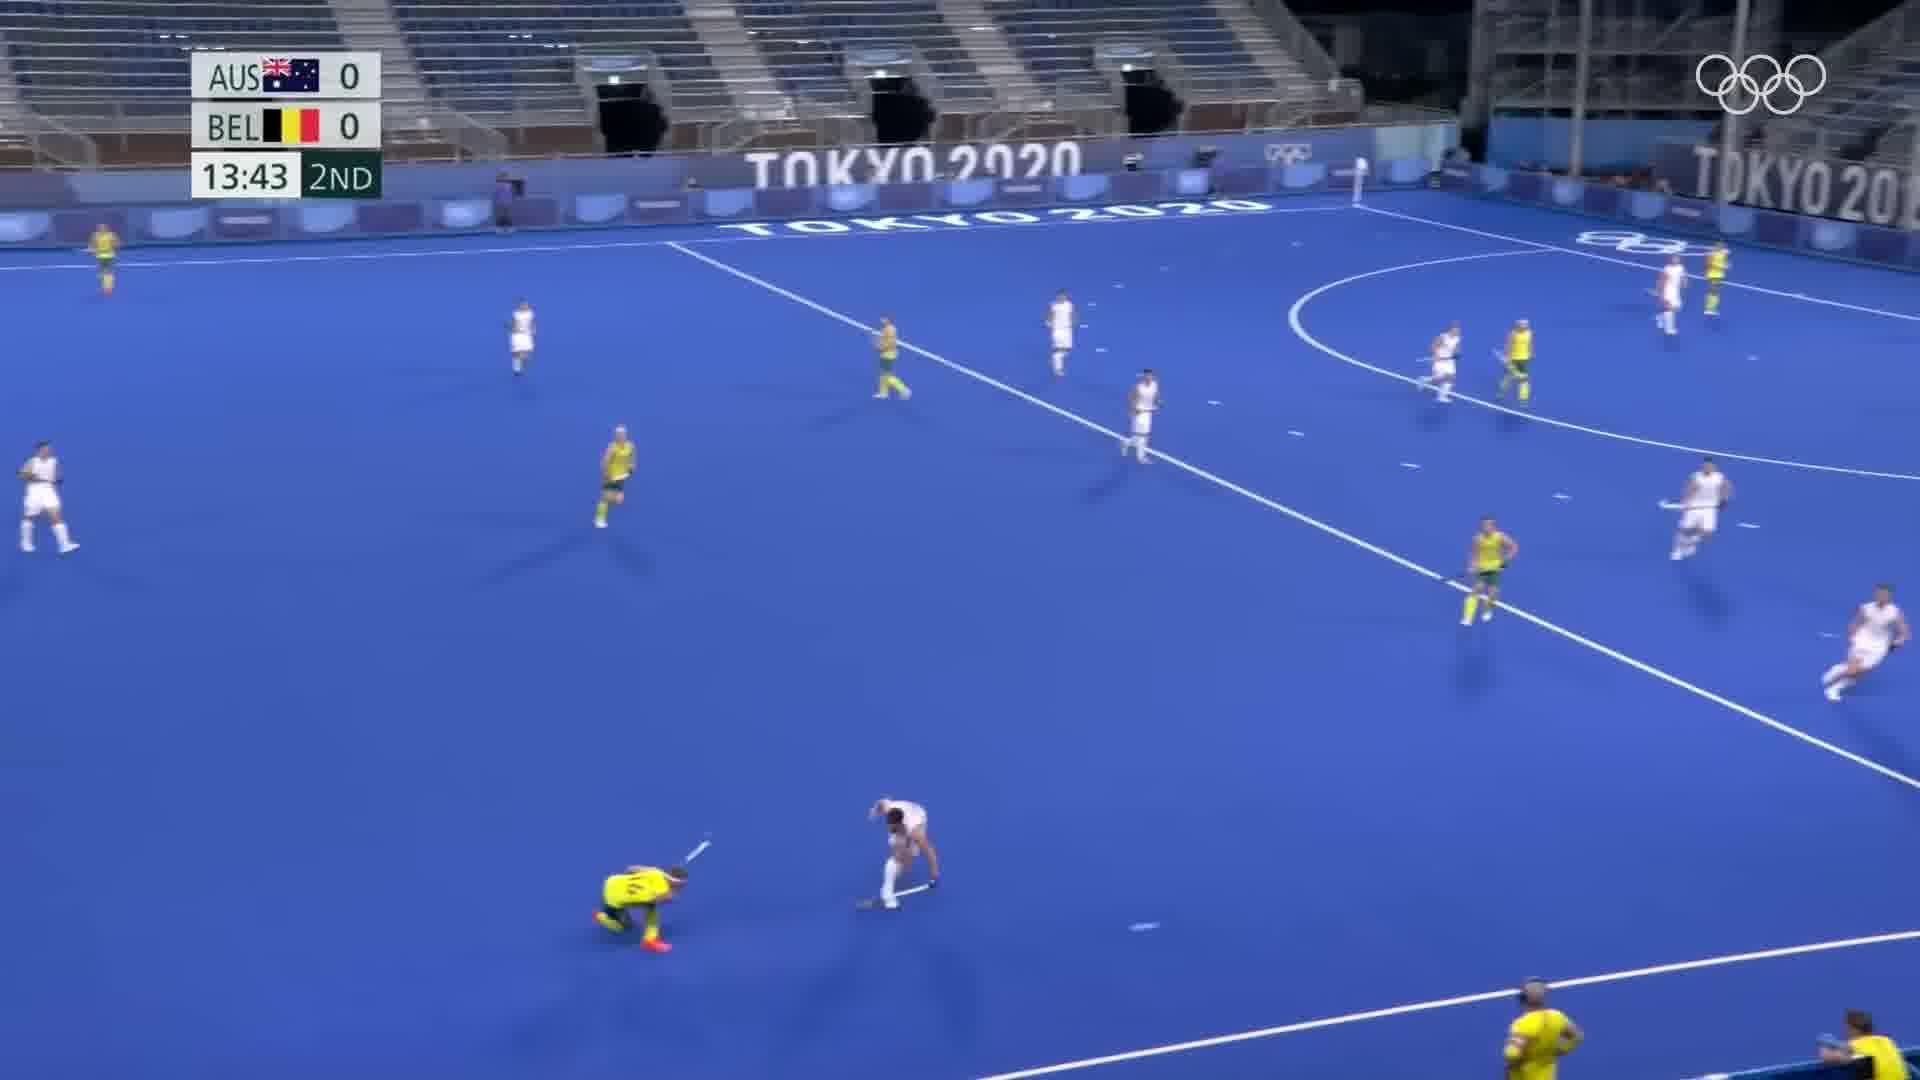ball: (1116, 915, 1168, 940)
